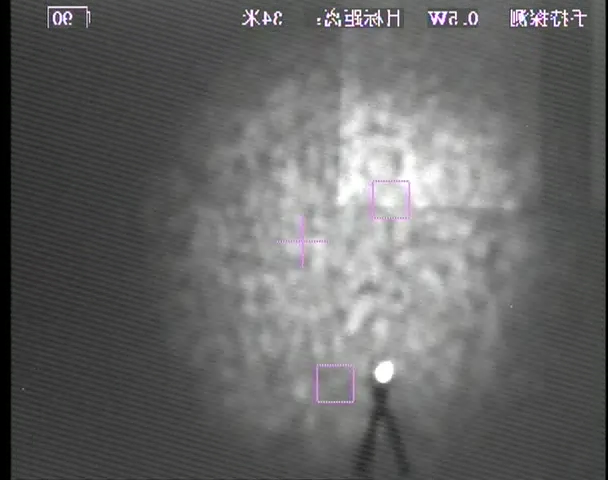my: (373, 358, 396, 385)
